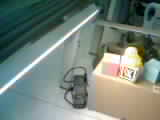duck: (113, 43, 140, 72)
